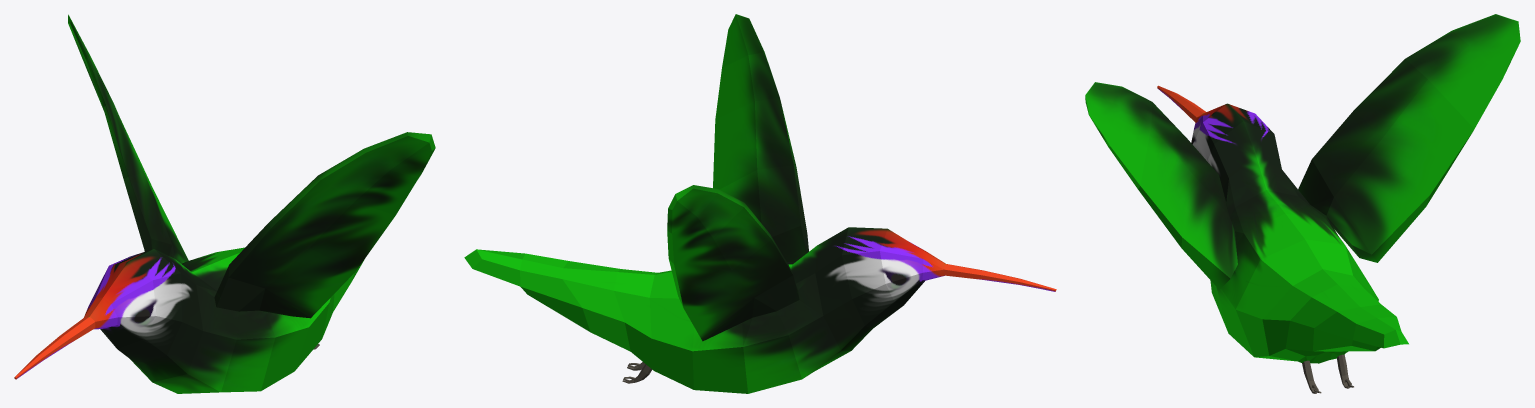
Rendered from hummingbird.glb.
3 renders of one model, left to right at view 1: azimuth 30°, elevation 25°; view 2: azimuth 150°, elevation 25°; view 3: azimuth 270°, elevation 25°, orthographic. The views are drawn at different scales.
Visible parts, largest first — view 1: Hummingbird_Mesh; view 2: Hummingbird_Mesh; view 3: Hummingbird_Mesh.
Boxes of the visible parts, x1=… form: Hummingbird_Mesh: x1=14, y1=14, x2=435, y2=393; Hummingbird_Mesh: x1=464, y1=14, x2=1056, y2=393; Hummingbird_Mesh: x1=1085, y1=14, x2=1520, y2=393.
Size of the model in its own units: 2.91 by 1.62 by 2.1.
1 material, 1 textured.
